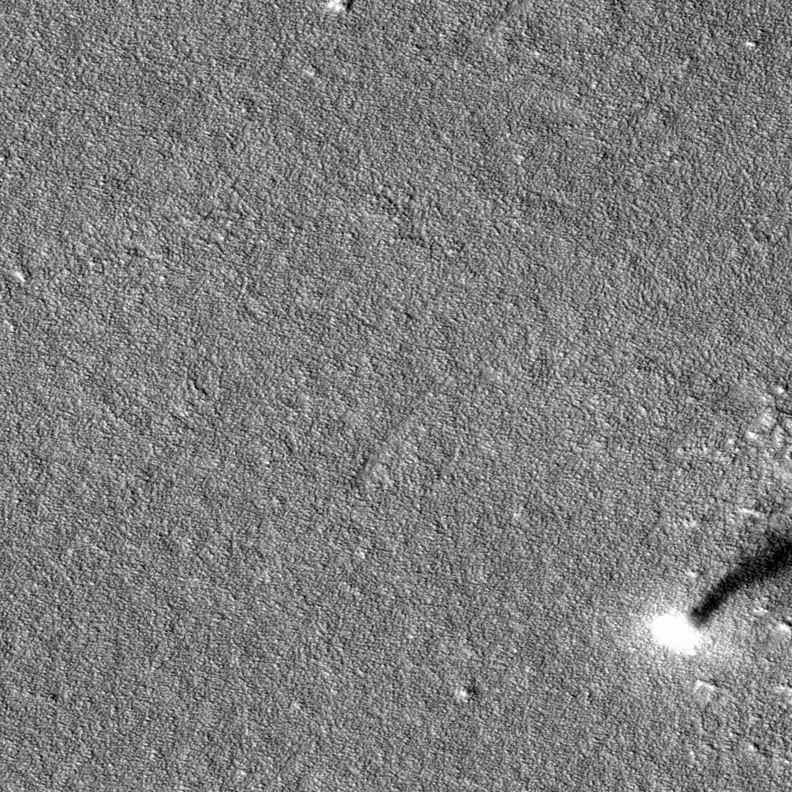dust_devil: (641, 498, 792, 666)
